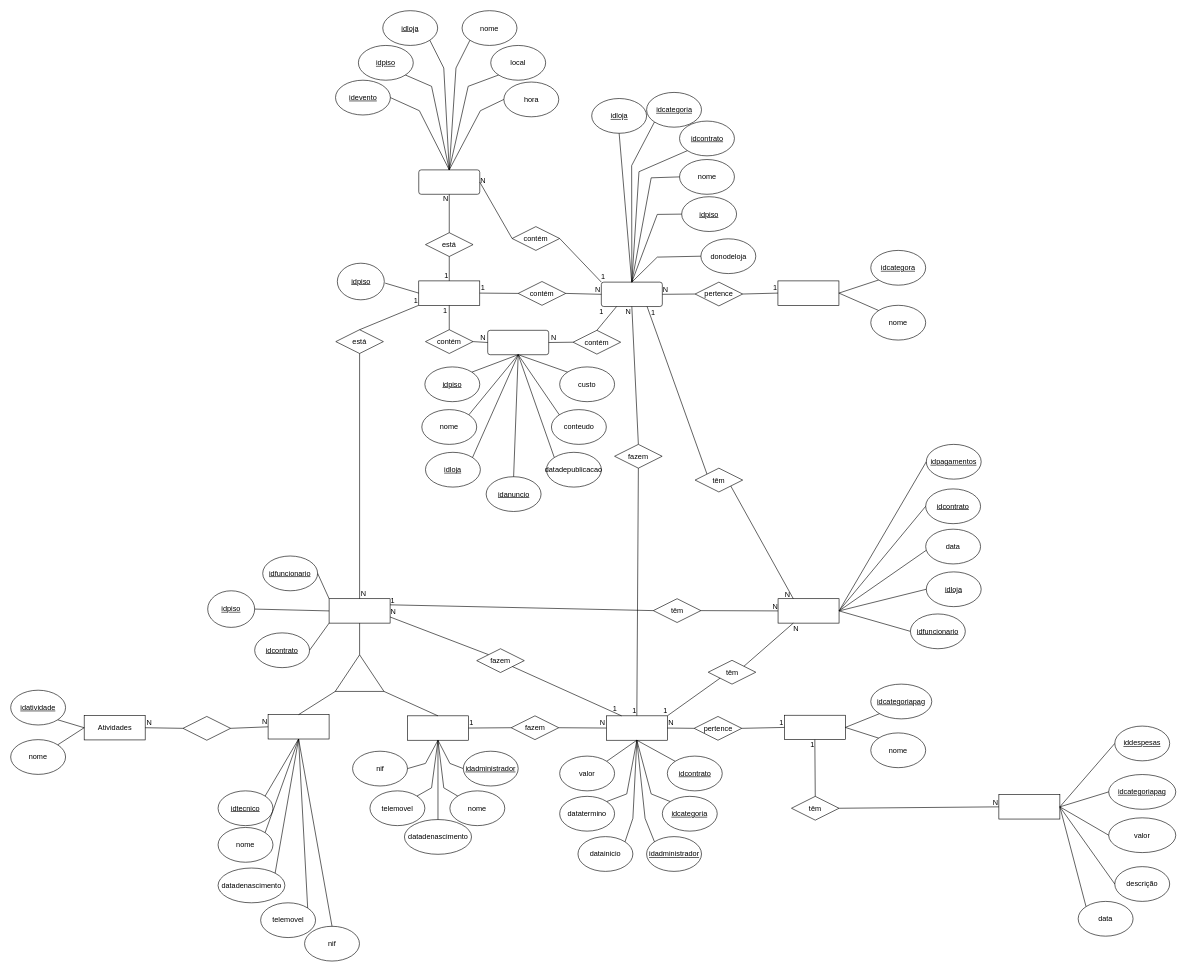
Some shapes in this 1186 by 972 pixel diagram are drawn without their labels. The shapes that lost their labels are listed below. From the top down, each one's centre as x and y in pixels, then its label:
At (449,181): "Evento".
At (449,292): "Piso".
At (631,294): "Loja".
At (808,292): "Categoria".
At (518,342): "Anuncios".
At (359,610): "Funcionários".
At (808,610): "Pagamentos".
At (206,728): "faz".
At (298,726): "Tecnicos".
At (437,727): "Administradores".
At (636,727): "Contratos".
At (814,727): "Categoria pagamentos".
At (1029,806): "Despesas".
